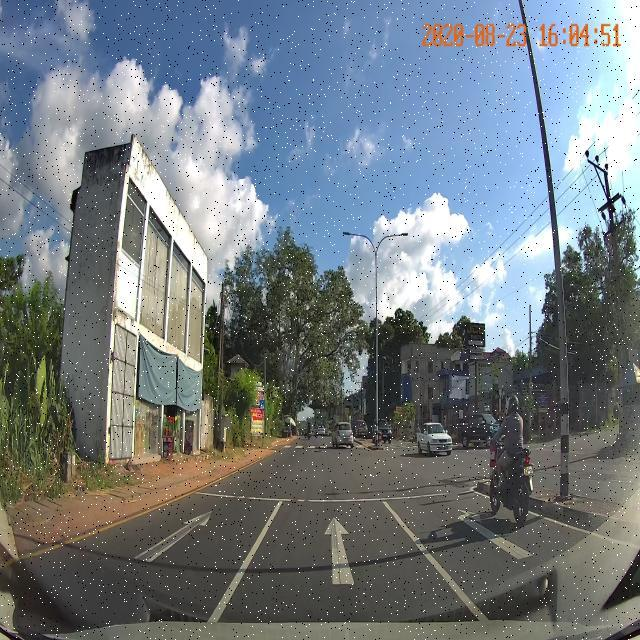forward: (229, 513, 460, 589)
